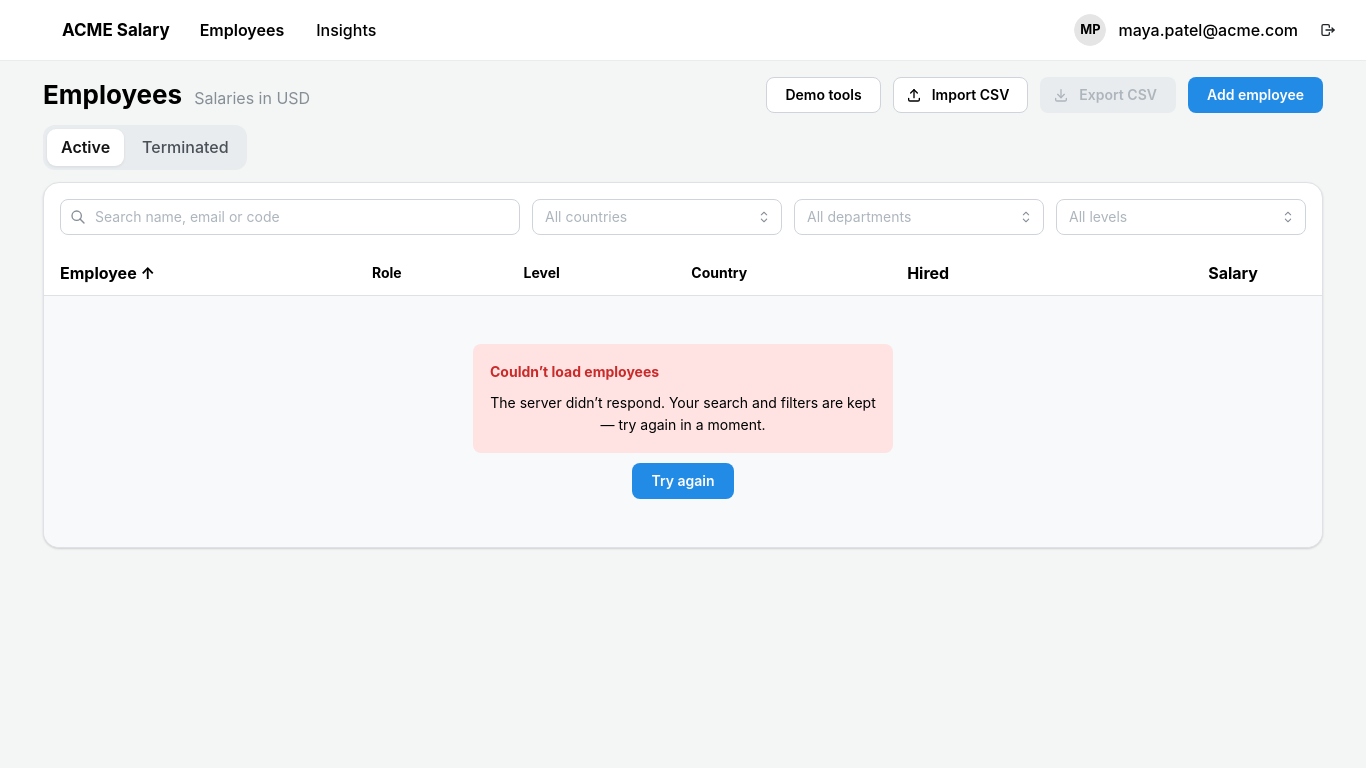
Test case: App routing › signs out through the API and returns to the sign in page
Click the button named "Sign out". click: (1328, 30)
box: [1310,12,1346,48]
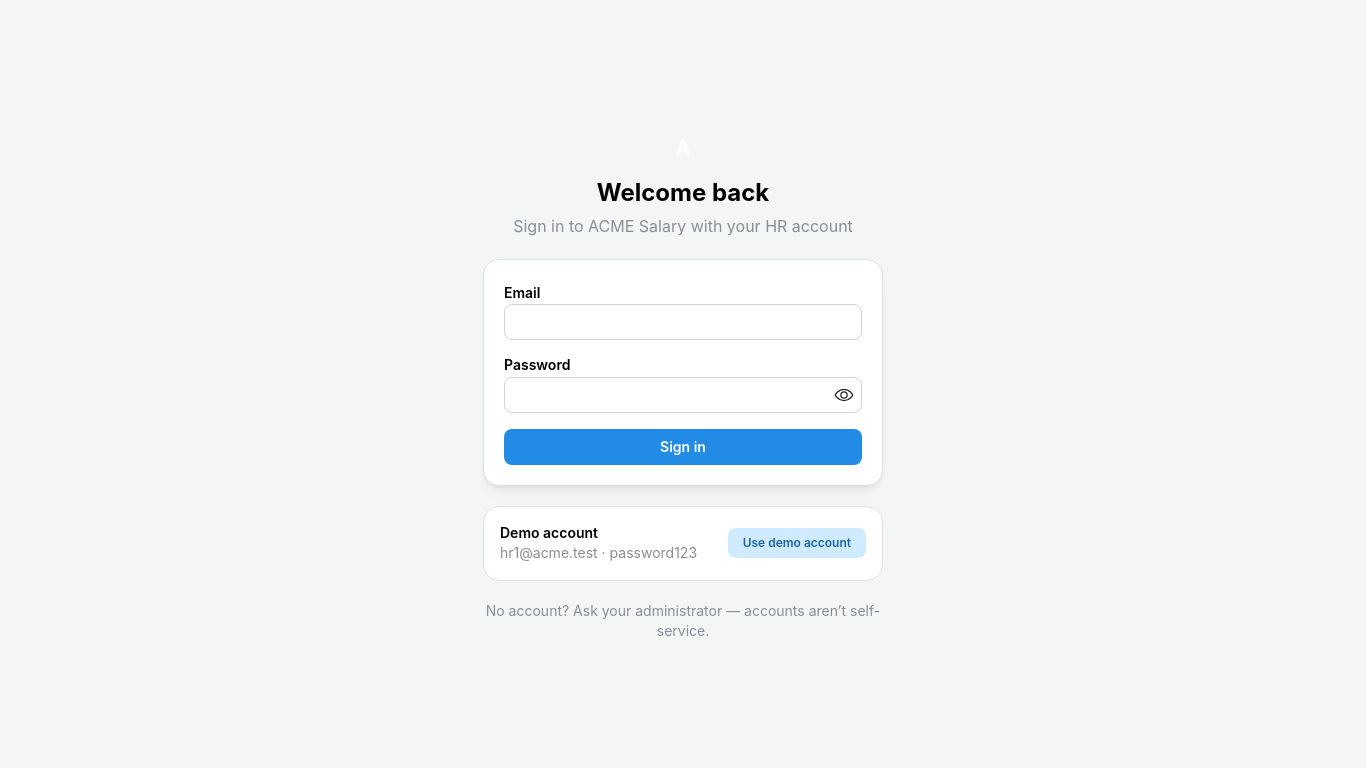
Expected: the heading "Welcome back" is shown, [597,177,769,208]
